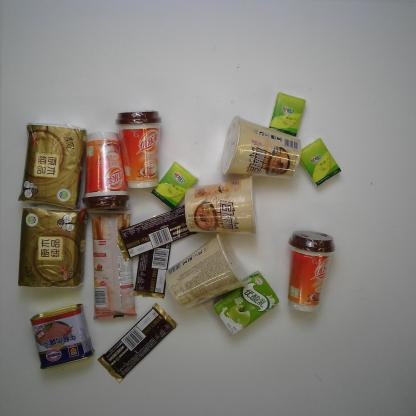Canned Food: (26, 303, 98, 374)
Chocolate: (98, 303, 183, 385), (113, 202, 204, 262), (123, 237, 173, 302)
Dessert: (86, 206, 140, 320)
Instant Drink: (286, 226, 337, 318), (112, 106, 163, 191), (82, 128, 130, 212)
Instant Noodles: (144, 230, 248, 310), (219, 113, 305, 182), (179, 175, 266, 237)
Milk: (212, 270, 282, 337)
Tissue: (15, 120, 85, 212), (17, 204, 83, 294), (149, 161, 201, 211), (296, 136, 344, 190), (267, 90, 308, 139)
